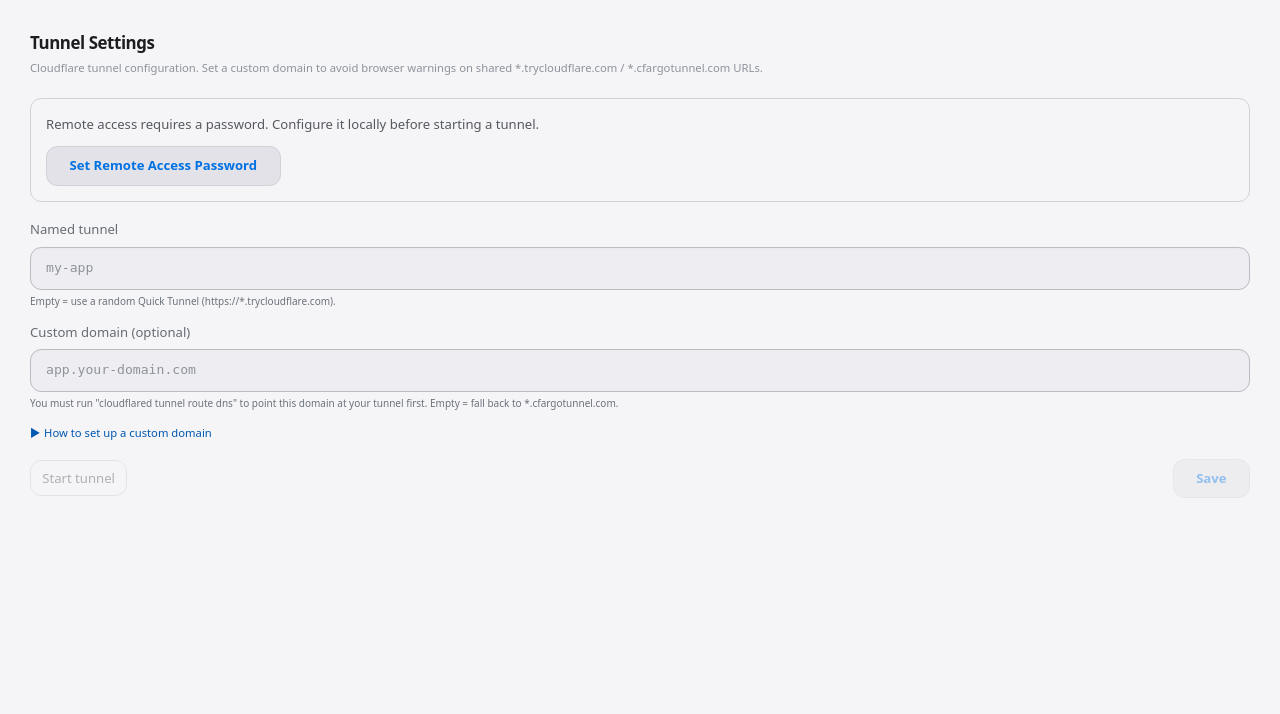
remote access localized UX › tunnel password CTA guards start and opens local password settings
The image size is (1280, 714).
Expected: the button "Start tunnel" is disabled, [30, 460, 127, 496]
Click the button "Set Remote Access Password" at (163, 166), box [46, 146, 280, 186]
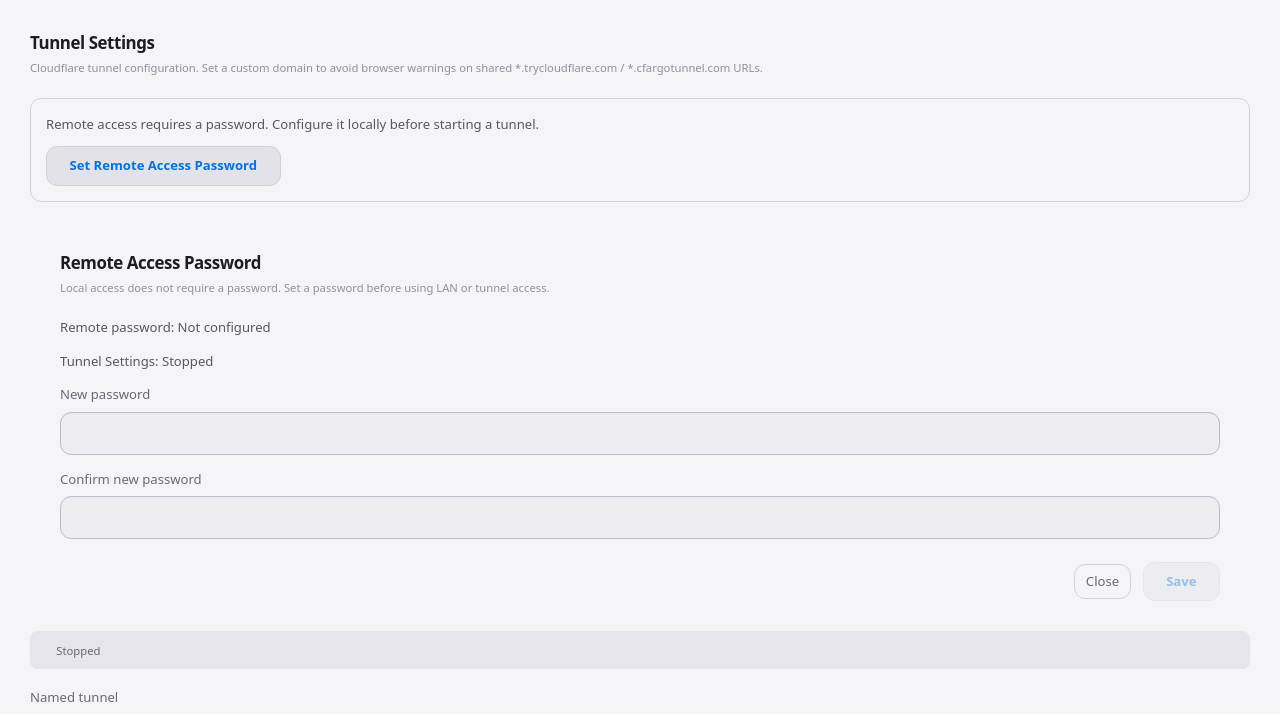
Expected: the heading "Remote Access Password" is shown, [60, 251, 261, 274]
